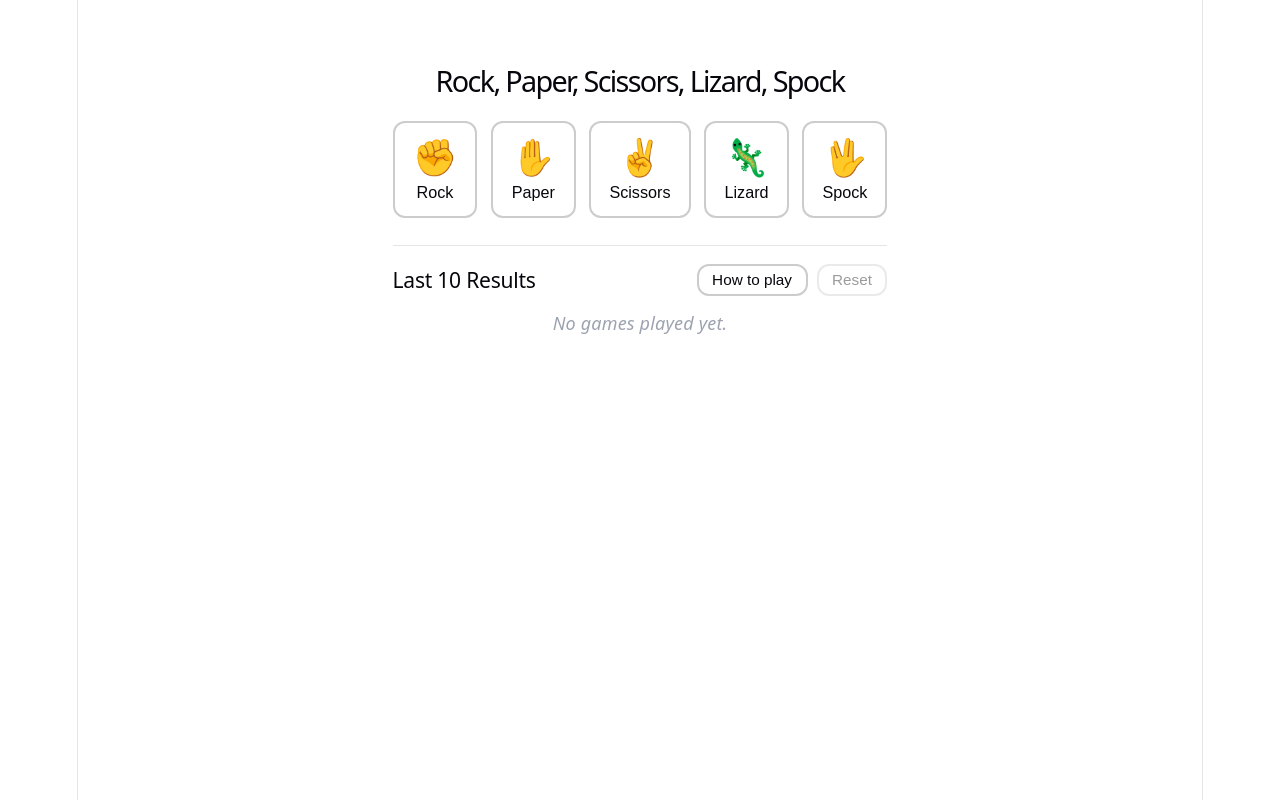
Test: App — playing a round › shows an error banner on play failure
Click the text "rock". click: (435,193)
box: [416,183,453,202]
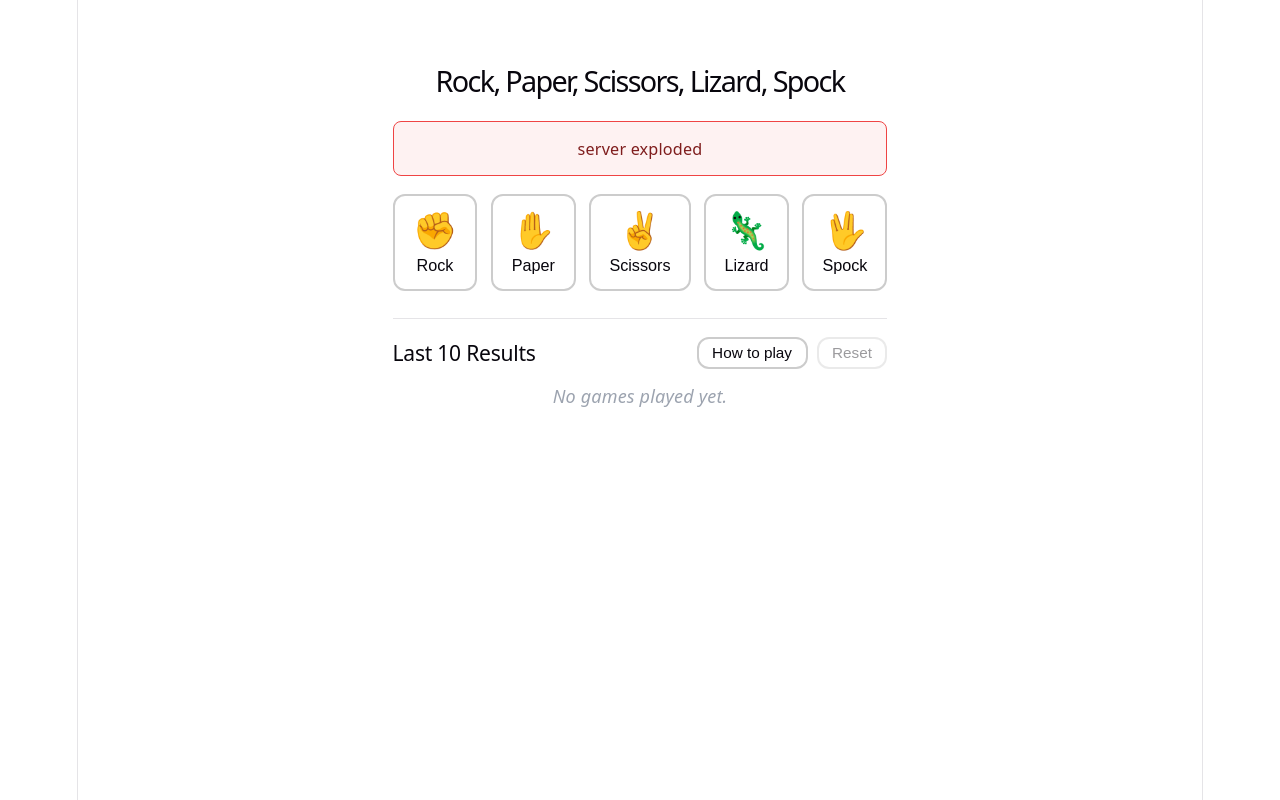
Expected: the message reads "server exploded", [578,138,702,160]
